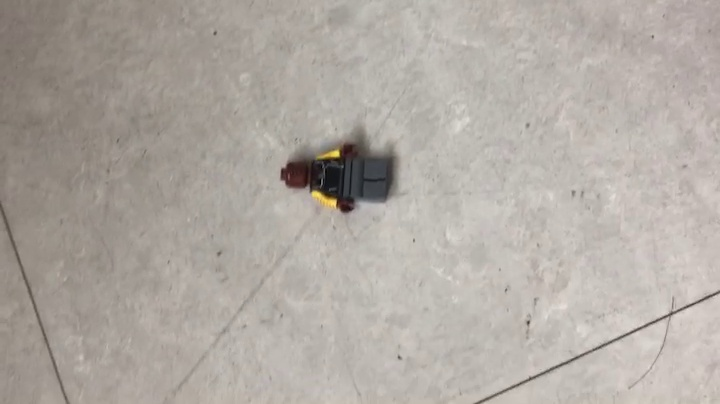people: (278, 140, 399, 214)
